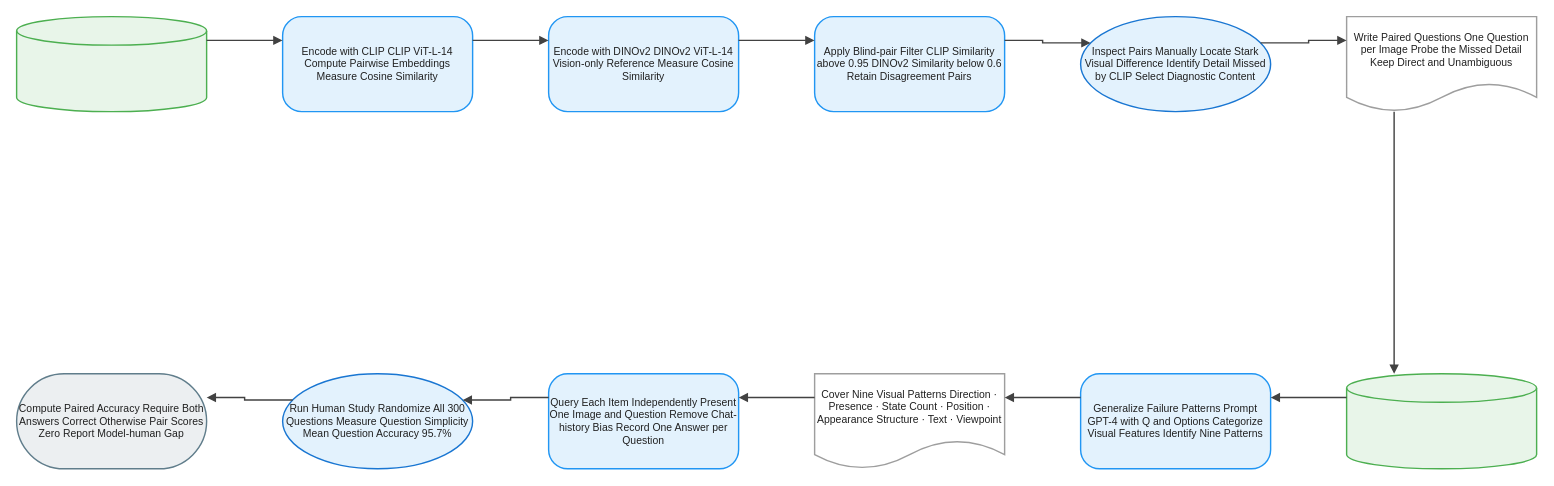
Image size: 1554x486. Some labels were removed from this diagram. Each missing label, with the centre of its shape:
"Assemble MMVP-MLLM 150 Image Pairs 300 Questions Two Questions per Pair" goes at pixel 1441 421.
"Collect Image Corpus ImageNet-1K LAION-Aesthetics Form Candidate Image Pairs" goes at pixel 111 63.
